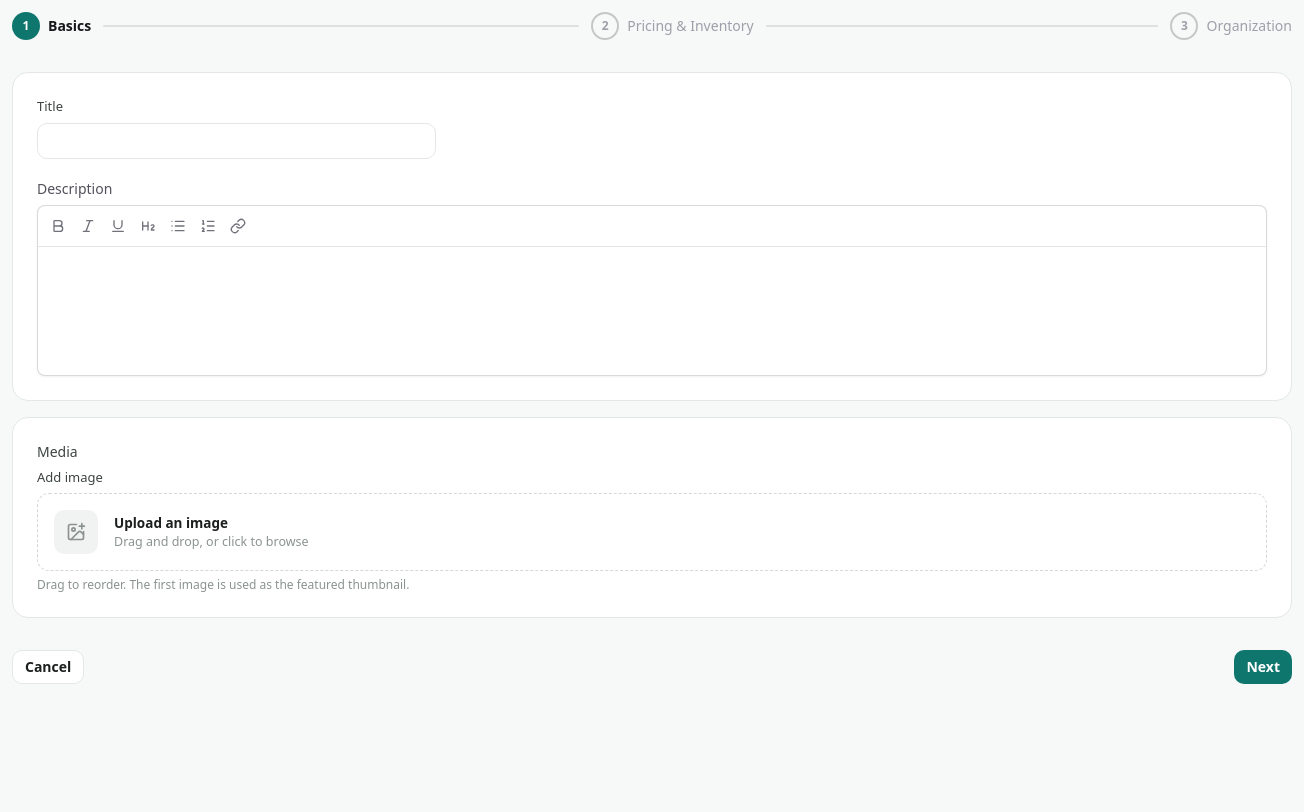
Test case: ProductForm wizard › blocks Next on Step 1 when Title is empty
The image size is (1304, 812).
Click the button "Next".
click(1263, 667)  # box [1234,650,1292,684]
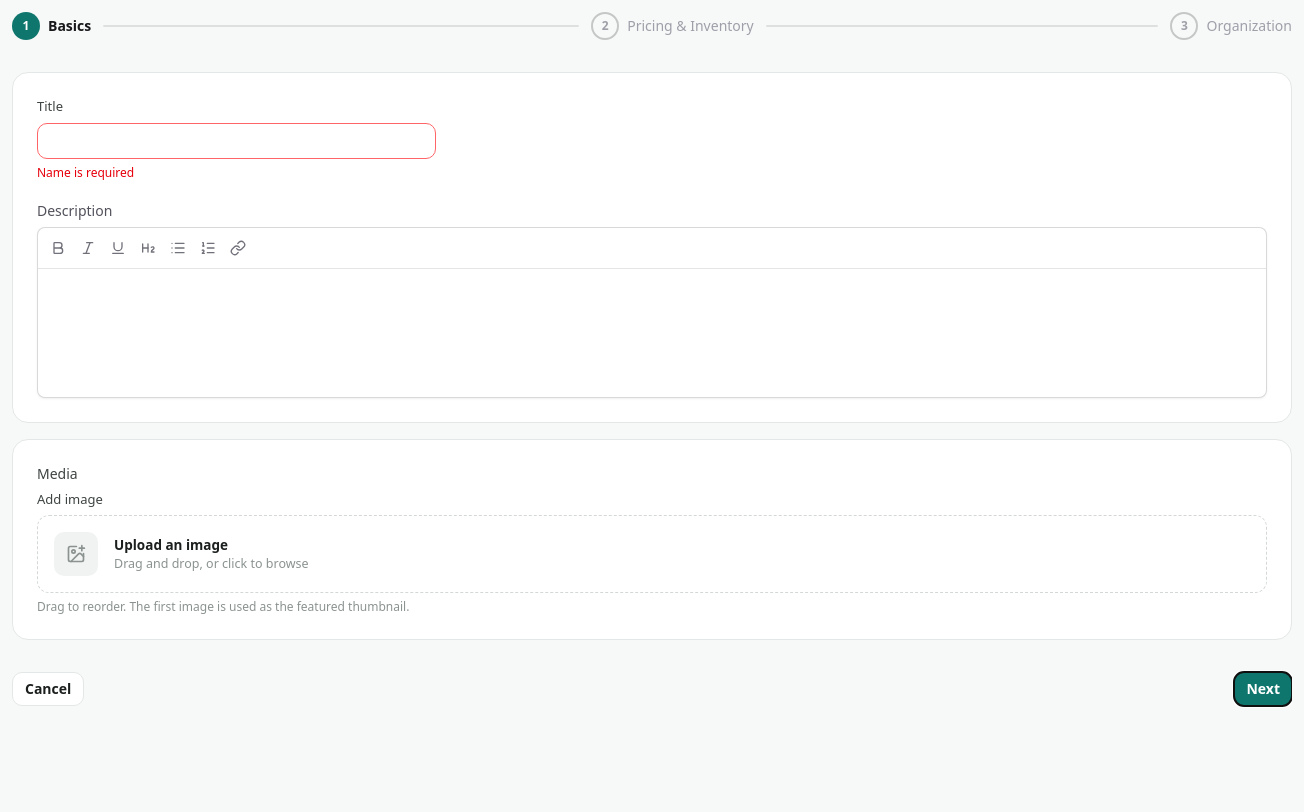
Expected: the field labelled "Title" is shown, [37,122,436,158]
Result: the text "Name is required" is shown at [37,164,134,180]
